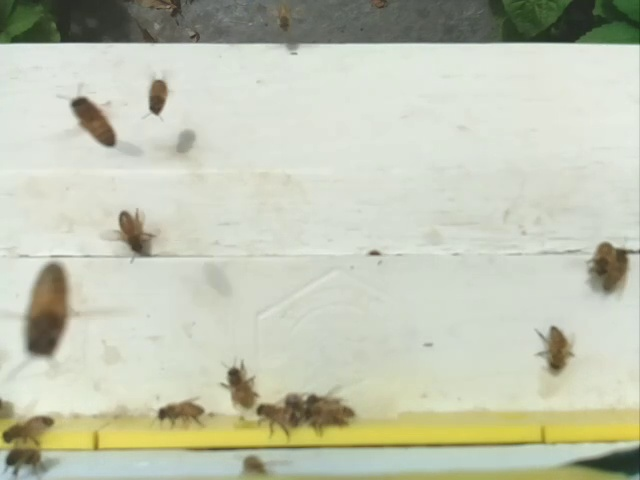bee: (14, 255, 83, 361), (55, 82, 128, 151), (98, 203, 166, 262), (527, 310, 580, 382), (217, 355, 265, 418), (137, 69, 180, 125), (152, 393, 213, 430), (1, 411, 61, 445), (255, 397, 302, 439), (300, 399, 358, 428), (604, 243, 632, 301), (1, 444, 52, 474), (240, 448, 282, 479), (594, 236, 616, 279)
